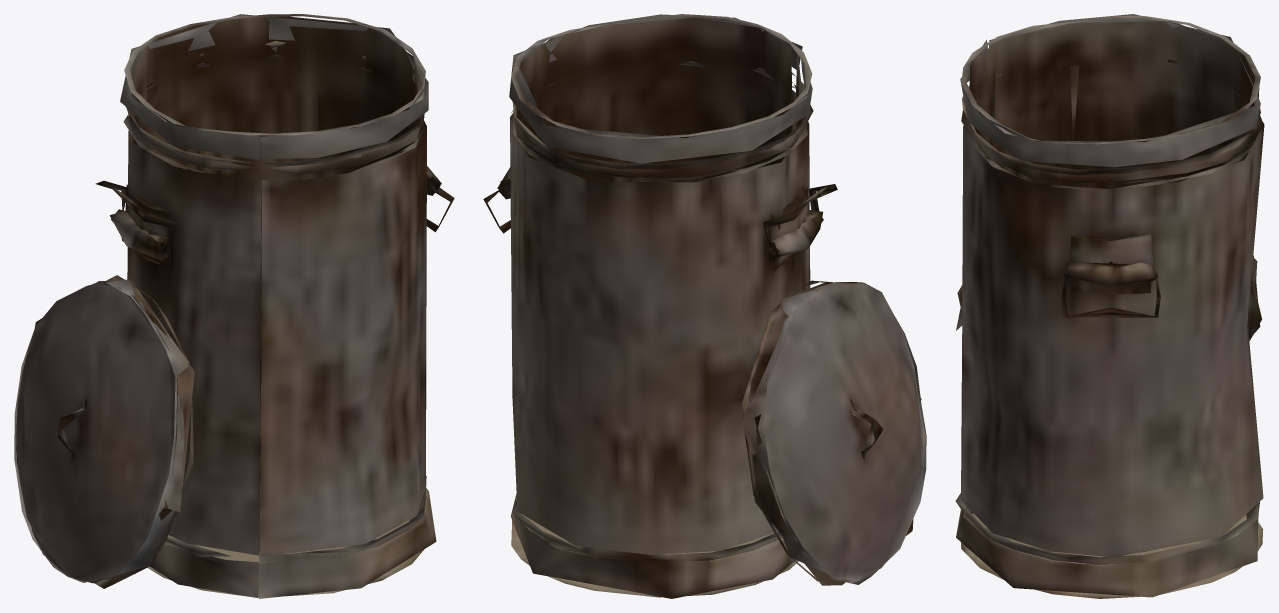
Rendered from metal_trash_can.glb.
3 views of the same model, side by side, from view 1: azimuth 30°, elevation 25°; view 2: azimuth 150°, elevation 25°; view 3: azimuth 270°, elevation 25° (orthographic).
Parts seen in each view (by area): view 1: metal_trash_can; view 2: metal_trash_can; view 3: metal_trash_can.
Boxes of the visible parts, bbox=[...] form: metal_trash_can: bbox=[14, 14, 454, 598]; metal_trash_can: bbox=[483, 14, 926, 598]; metal_trash_can: bbox=[955, 14, 1264, 598].
Size of the model in its own units: 0.7727 by 0.9068 by 0.5553.
Materials: 2 (2 with a texture image).
